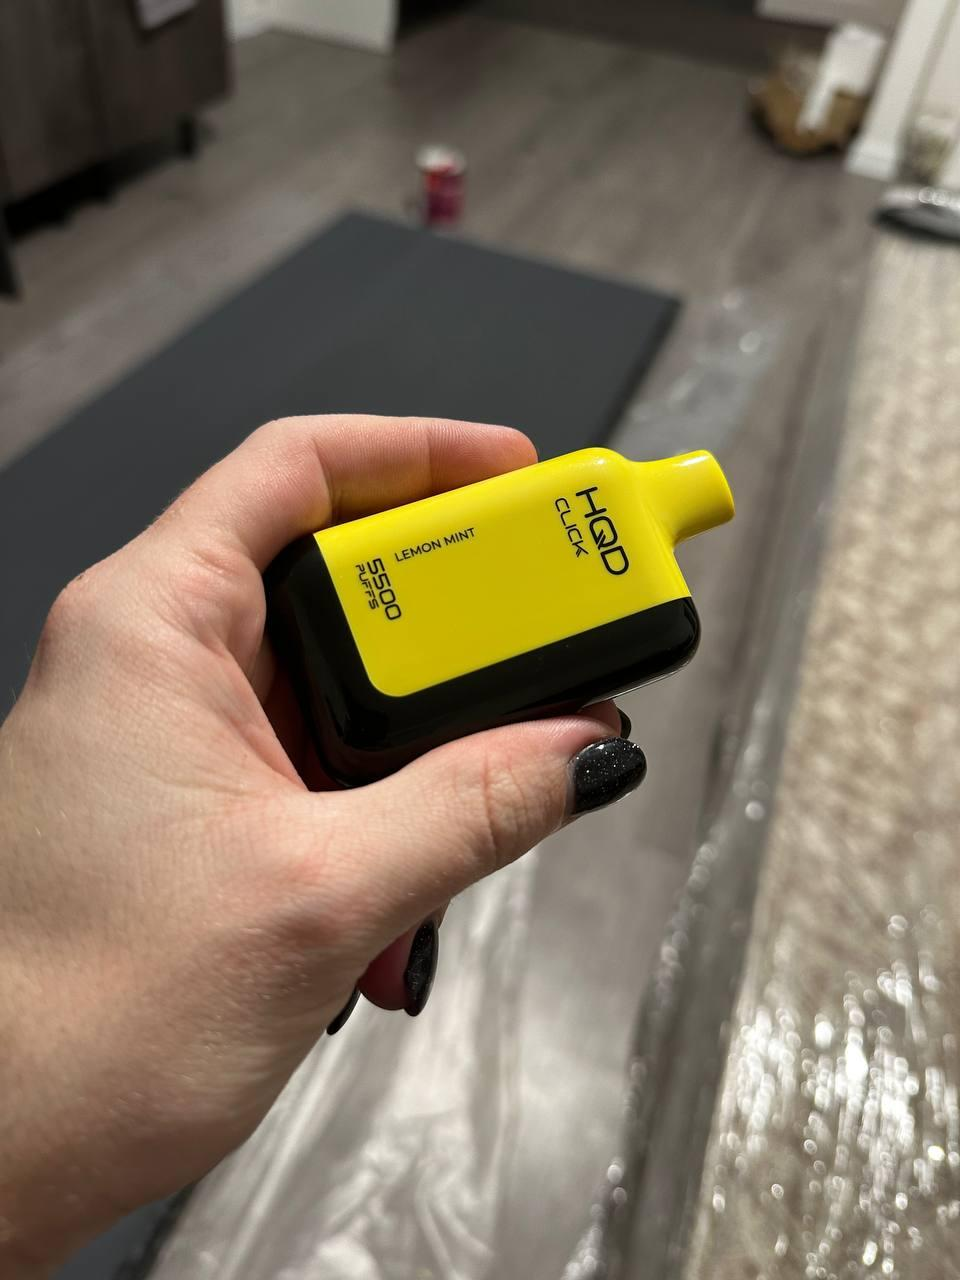Vape: (264, 447, 734, 788)
